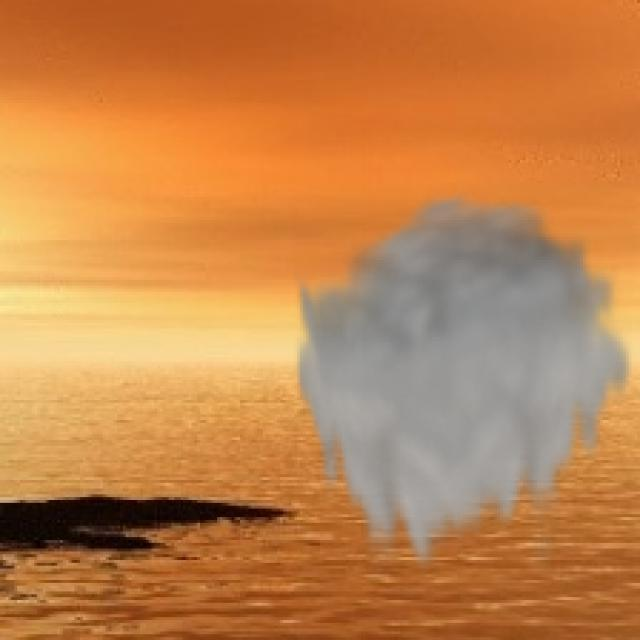Smoke: (292, 186, 637, 583)
